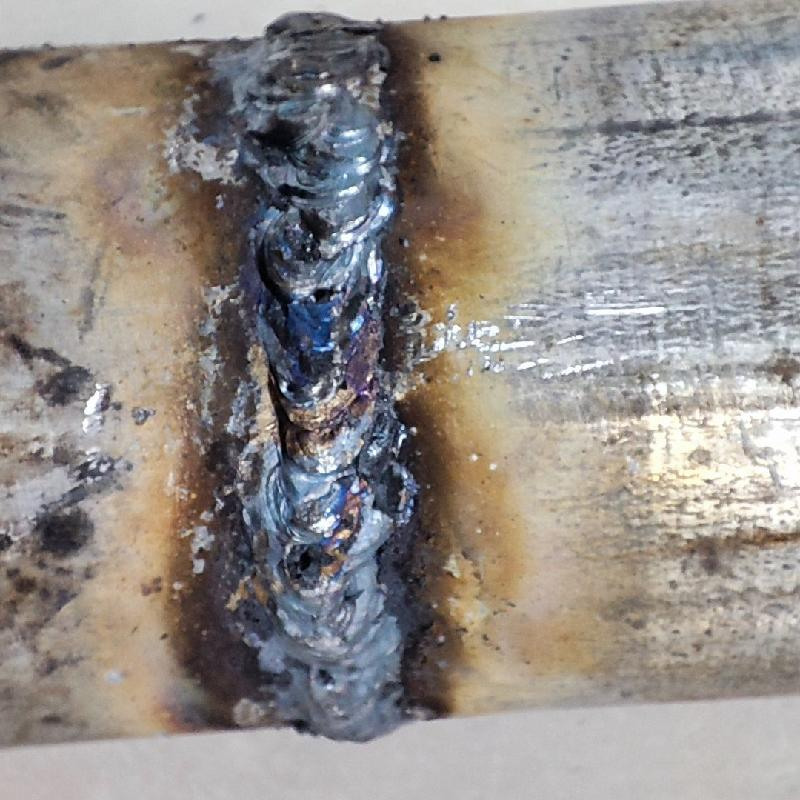Surface_pores: (285, 542, 326, 585), (296, 277, 345, 311), (275, 374, 311, 405)
